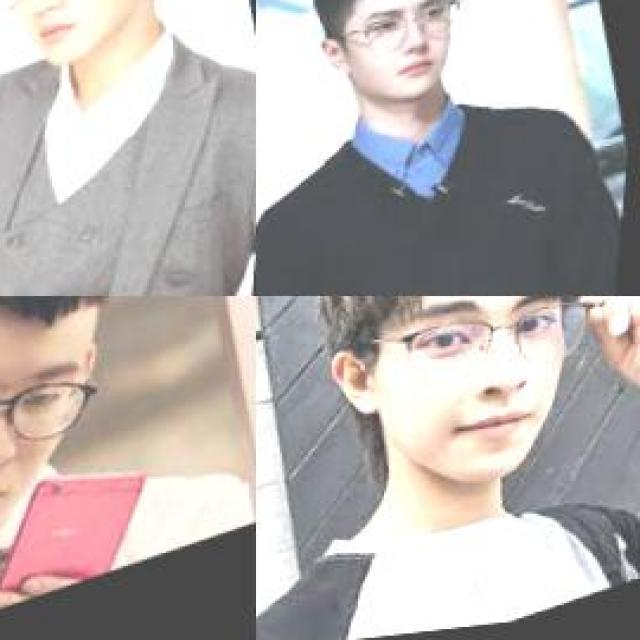Glasses: (356, 296, 612, 429), (0, 296, 114, 507), (339, 0, 469, 70), (0, 0, 133, 20)
